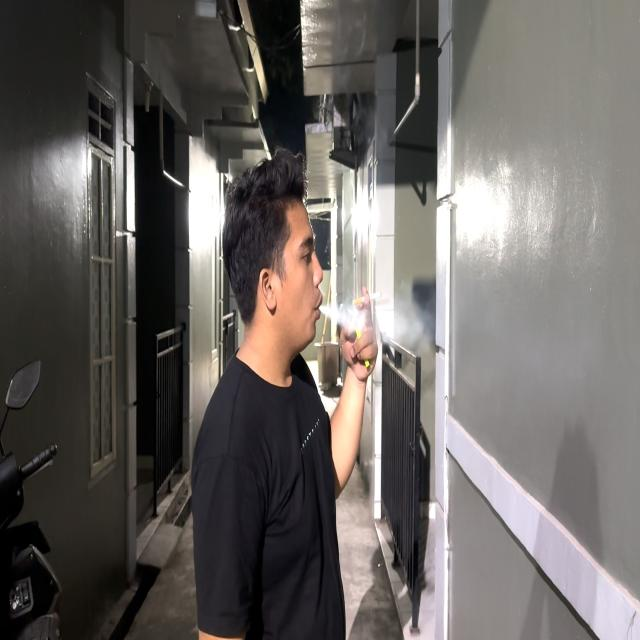cigarette: (352, 291, 383, 305)
smoking: (219, 143, 382, 501)
